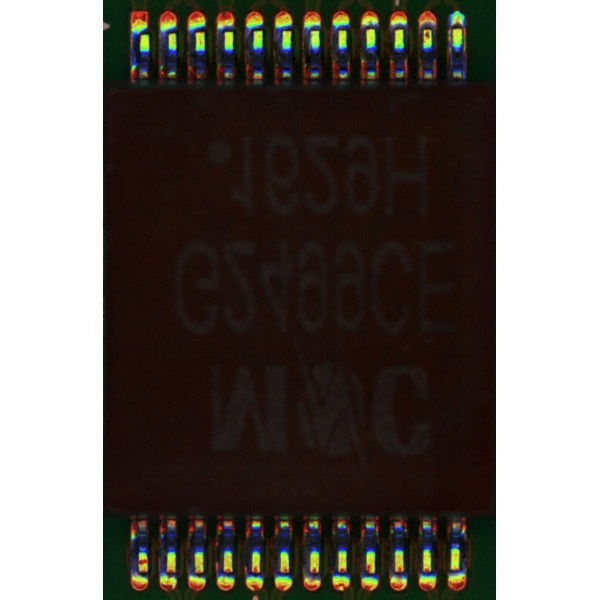Bad_qiaojiao: (447, 28, 452, 62), (462, 28, 467, 58)
